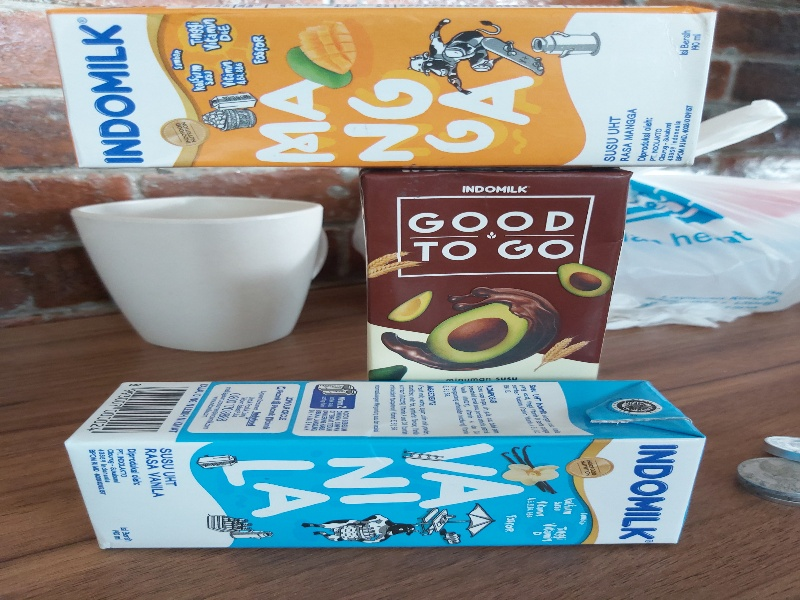cokelat: (354, 169, 635, 380)
mangga: (46, 4, 720, 168)
vanilla: (62, 380, 711, 551)
